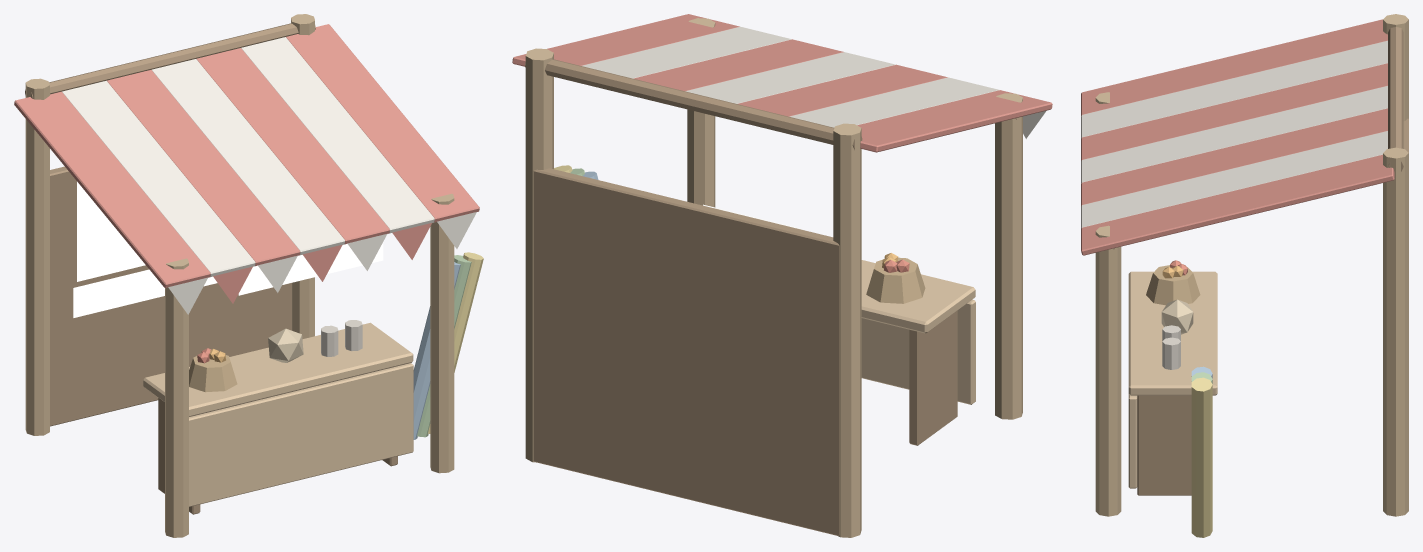
File: echo_world_market_stall.glb
3 views of the same model, side by side, from view 1: azimuth 30°, elevation 25°; view 2: azimuth 150°, elevation 25°; view 3: azimuth 270°, elevation 25° (orthographic). The views are drawn at different scales.
Parts seen in each view (by area): view 1: MESH_BackWall, MESH_CounterFront, AWNING_Stripe_01, AWNING_Stripe_05, AWNING_Stripe_06, AWNING_Stripe_02, AWNING_Stripe_03, AWNING_Stripe_04, AWNING_Stripe_07, MESH_CounterTop, STALL_Post_Back_L, STALL_Post_Front_R (+19 smaller); view 2: MESH_BackWall, STALL_Post_Back_L, STALL_Post_Front_L, STALL_Post_Back_R, AWNING_Stripe_01, MESH_CounterLeg_L, STALL_Beam_Back, MESH_CounterFront, AWNING_Stripe_05, AWNING_Stripe_04, AWNING_Stripe_03, AWNING_Stripe_06 (+5 smaller); view 3: STALL_Post_Back_R, AWNING_Stripe_07, MESH_CounterTop, STALL_Post_Front_R, AWNING_Stripe_04, AWNING_Stripe_02, AWNING_Stripe_05, AWNING_Stripe_03, AWNING_Stripe_06, AWNING_Stripe_01, MESH_CounterLeg_R, PROP_Bolt_03 (+6 smaller).
Boxes of the visible parts, x1,y1,x2,y2 form: MESH_BackWall: (50, 166, 291, 426); MESH_CounterFront: (189, 363, 413, 506); AWNING_Stripe_01: (14, 91, 210, 288); AWNING_Stripe_05: (196, 48, 389, 244); AWNING_Stripe_06: (241, 37, 434, 233); AWNING_Stripe_02: (62, 80, 255, 276); AWNING_Stripe_03: (107, 70, 300, 266); AWNING_Stripe_04: (152, 59, 344, 255); AWNING_Stripe_07: (286, 24, 479, 222); MESH_CounterTop: (143, 322, 413, 416); STALL_Post_Back_L: (25, 78, 49, 435); STALL_Post_Front_R: (430, 193, 454, 473); MESH_BackWall: (533, 168, 839, 535); STALL_Post_Back_L: (833, 123, 861, 537); STALL_Post_Front_L: (995, 93, 1022, 419); STALL_Post_Back_R: (525, 48, 553, 462); AWNING_Stripe_01: (857, 90, 1052, 152); MESH_CounterLeg_L: (909, 310, 957, 445); STALL_Beam_Back: (525, 59, 862, 149); MESH_CounterFront: (861, 299, 975, 404); AWNING_Stripe_05: (633, 39, 843, 91); AWNING_Stripe_04: (685, 52, 895, 103); AWNING_Stripe_03: (738, 64, 947, 116); AWNING_Stripe_06: (582, 26, 791, 78); STALL_Post_Back_R: (1383, 147, 1408, 516); AWNING_Stripe_07: (1081, 154, 1394, 255); MESH_CounterTop: (1128, 271, 1217, 395); STALL_Post_Front_R: (1095, 225, 1121, 516); AWNING_Stripe_04: (1081, 86, 1387, 183); AWNING_Stripe_02: (1081, 40, 1387, 138); AWNING_Stripe_05: (1081, 108, 1387, 205); AWNING_Stripe_03: (1081, 63, 1387, 160); AWNING_Stripe_06: (1081, 131, 1387, 228); AWNING_Stripe_01: (1081, 19, 1387, 115); MESH_CounterLeg_R: (1137, 395, 1191, 495); PROP_Bolt_03: (1191, 377, 1212, 537).
Size of the model in its own units: 3.11 by 2.8 by 2.28.
